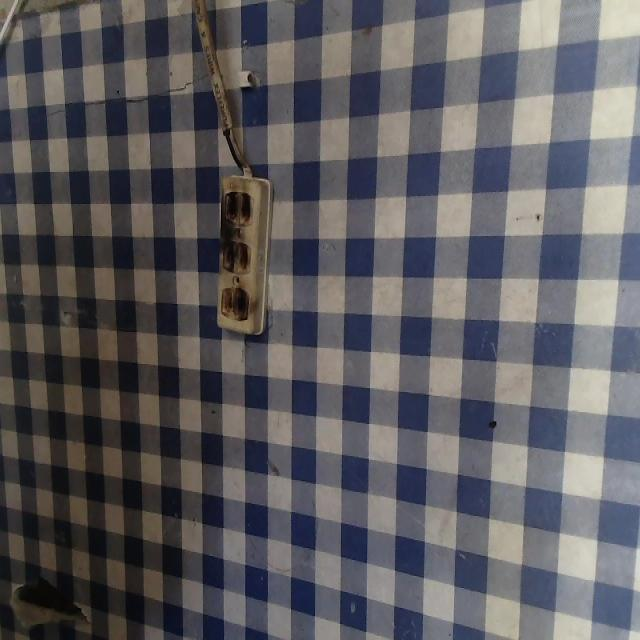-: (215, 183, 258, 233), (218, 227, 262, 273), (218, 278, 260, 326)
